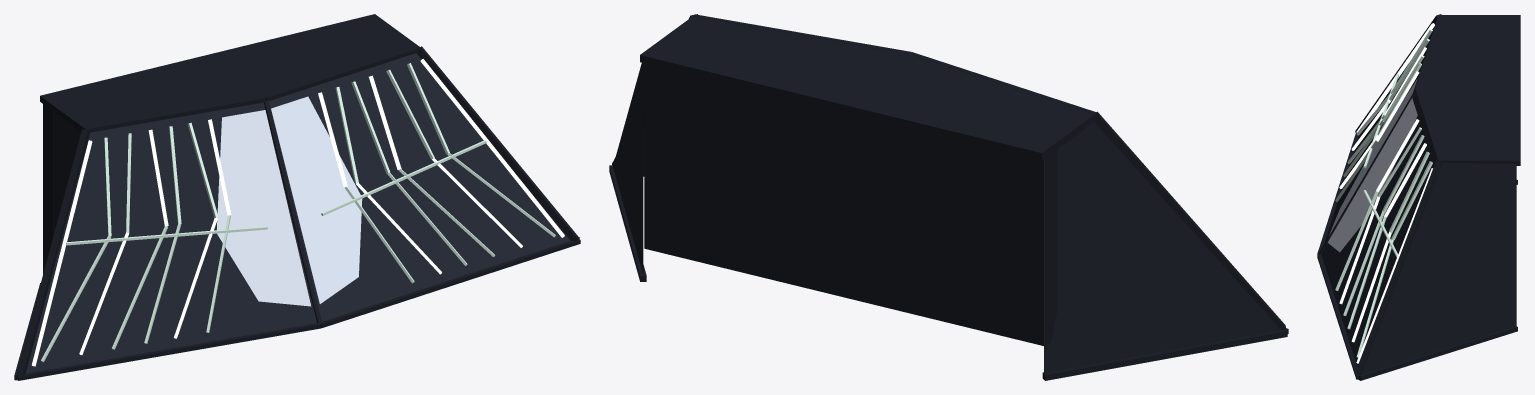
File: alive-pyramid-podium.fbx
3 views of the same model, side by side, from view 1: azimuth 30°, elevation 25°; view 2: azimuth 150°, elevation 25°; view 3: azimuth 270°, elevation 25° (orthographic). The views are drawn at different scales.
Visible parts, largest first — view 1: Sloped podium / folded graphite surface, Sloped podium / folded graphite surface.001, Podium / shared crate deck, Sloped podium / luminous center, Sloped podium / luminous center.001, Podium diagonal edge, Podium diagonal edge.001, Podium / side enclosure, Podium frame transom, Podium frame transom.002, Podium / rear fascia, Podium face seam (+18 smaller); view 2: Podium / rear fascia, Podium / side enclosure, Podium / shared crate deck, Podium / side enclosure.001, Podium diagonal edge, Podium side return, Podium frame transom.003, Podium side return.001, Podium frame transom.001; view 3: Podium / side enclosure.001, Podium / shared crate deck, Sloped podium / folded graphite surface.001, Sloped podium / luminous center.001, Podium diagonal edge.001, Podium side return.001, Sloped podium / luminous center, Sloped podium / folded graphite surface, Podium frame transom.002, Outer contour / warm-white line.001, Outer contour / warm-white line, Podium face seam (+28 smaller).
Part boxes in pixels (<box>): Sloped podium / folded graphite surface: <box>26,102,316,373</box>; Sloped podium / folded graphite surface.001: <box>268,53,570,321</box>; Podium / shared crate deck: <box>40,14,418,131</box>; Sloped podium / luminous center: <box>217,110,311,306</box>; Sloped podium / luminous center.001: <box>271,96,362,303</box>; Podium diagonal edge: <box>16,129,89,375</box>; Podium diagonal edge.001: <box>416,46,578,240</box>; Podium / side enclosure: <box>43,104,81,274</box>; Podium frame transom: <box>17,323,320,380</box>; Podium frame transom.002: <box>321,239,580,328</box>; Podium / rear fascia: <box>43,105,53,263</box>; Podium face seam: <box>264,100,321,323</box>; Podium / rear fascia: <box>644,63,1057,346</box>; Podium / side enclosure: <box>1044,122,1280,373</box>; Podium / shared crate deck: <box>640,16,1095,159</box>; Podium / side enclosure.001: <box>613,62,644,274</box>; Podium diagonal edge: <box>1094,111,1286,330</box>; Podium side return: <box>1042,329,1287,380</box>; Podium frame transom.003: <box>693,14,911,53</box>; Podium side return.001: <box>609,165,646,281</box>; Podium frame transom.001: <box>909,52,1097,115</box>; Podium / side enclosure.001: <box>1361,162,1516,374</box>; Podium / shared crate deck: <box>1419,15,1520,165</box>; Sloped podium / folded graphite surface.001: <box>1321,94,1436,366</box>; Sloped podium / luminous center.001: <box>1328,98,1417,252</box>; Podium diagonal edge.001: <box>1355,160,1442,375</box>; Podium side return.001: <box>1358,326,1517,380</box>; Sloped podium / luminous center: <box>1328,79,1417,236</box>; Sloped podium / folded graphite surface: <box>1325,28,1433,242</box>; Podium frame transom.002: <box>1317,254,1358,379</box>; Outer contour / warm-white line.001: <box>1356,168,1432,363</box>; Outer contour / warm-white line: <box>1356,23,1434,132</box>; Podium face seam: <box>1319,90,1415,254</box>.
Size of the model in its own units: 8.34 by 2.91 by 2.69.
